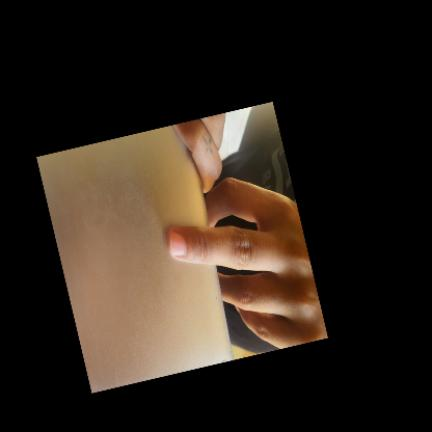Nail: (170, 233, 186, 255)
